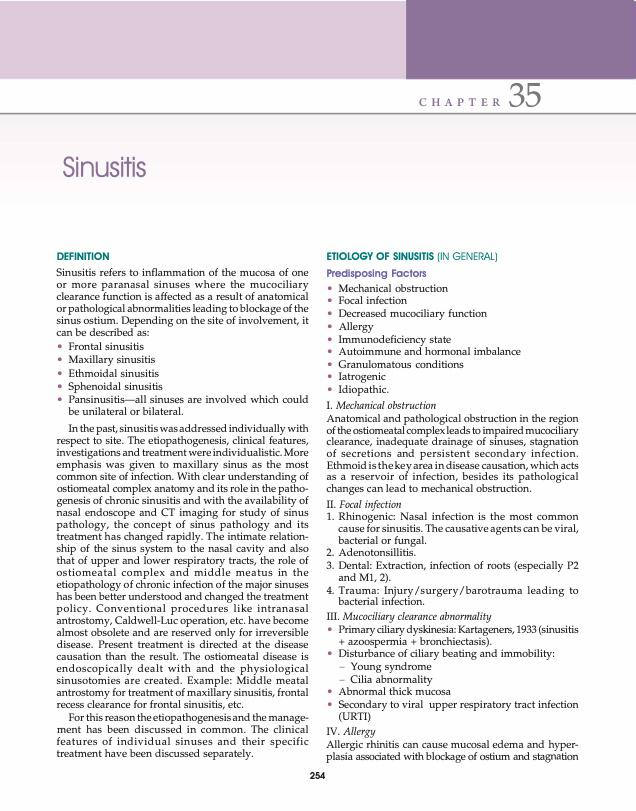chapter-heading: (60, 154, 149, 180)
list: (324, 497, 579, 739), (326, 282, 522, 398), (56, 340, 310, 416), (325, 399, 437, 411)
section-heading: (325, 251, 499, 263), (55, 250, 110, 261)
sub-section-heading: (326, 267, 427, 279)
text: (55, 422, 310, 761), (325, 412, 580, 496), (55, 266, 310, 338), (325, 739, 579, 764)
